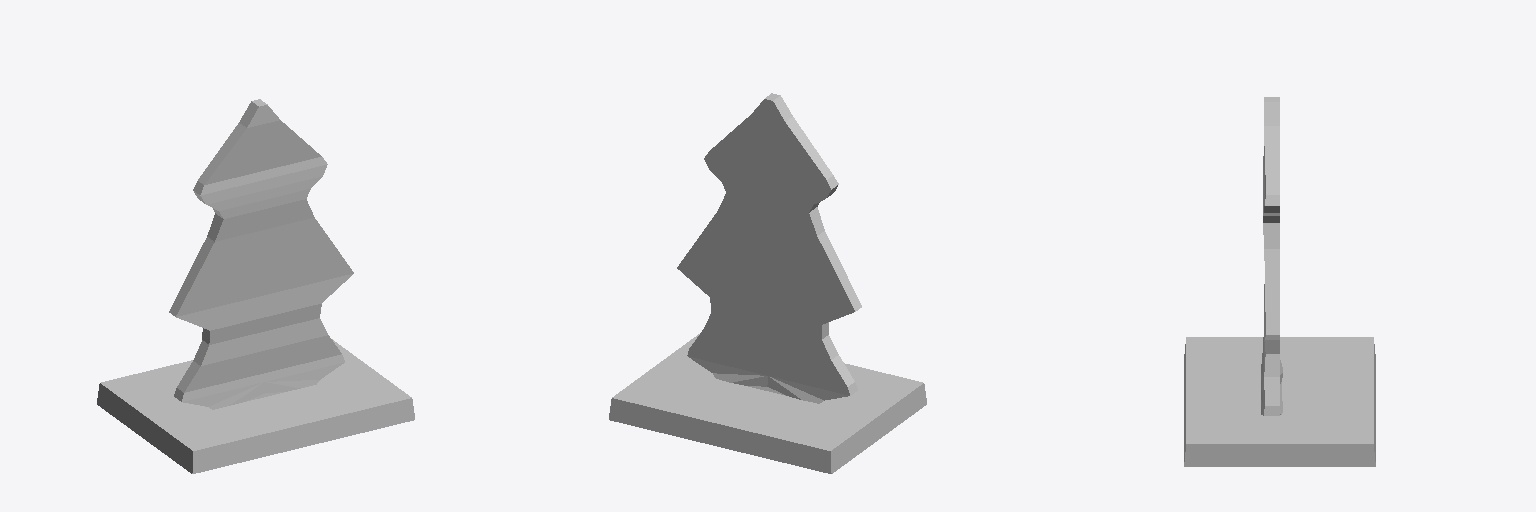
The model's file is arbol_galleta.obj.
The picture shows the model from 3 angles: view 1: azimuth 30°, elevation 25°; view 2: azimuth 150°, elevation 25°; view 3: azimuth 270°, elevation 25°; orthographic projection.
Parts seen in each view (by area): view 1: LP_Plane.003; view 2: LP_Plane.003; view 3: LP_Plane.003.
Boxes of the visible parts, x1,y1,x2,y2 form: LP_Plane.003: [97, 99, 414, 473]; LP_Plane.003: [609, 93, 926, 473]; LP_Plane.003: [1184, 97, 1375, 466].
Size of the model in its own units: 2.76 by 3.7 by 2.06.